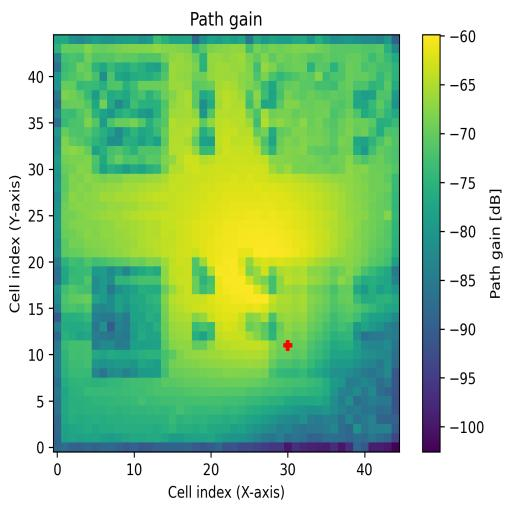Concrete: (270, 56, 346, 173)
Glass: (93, 62, 168, 176)
Metal: (268, 267, 354, 376)
Wood: (91, 266, 162, 379)
